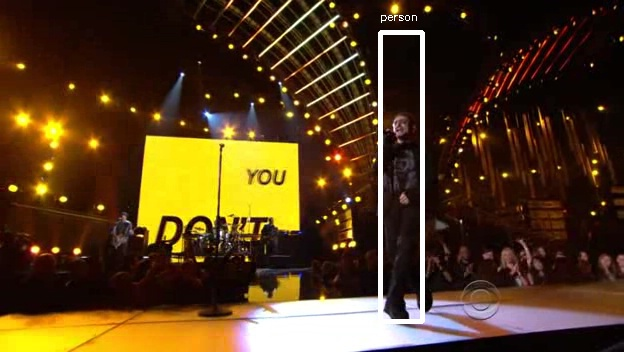person: (373, 112, 438, 223), (370, 112, 435, 223), (376, 112, 441, 223), (373, 109, 438, 220), (373, 115, 438, 226)
target_negative: (265, 131, 523, 268), (249, 233, 532, 253), (265, 304, 503, 320), (417, 237, 467, 287), (278, 322, 427, 334), (265, 228, 275, 300)
